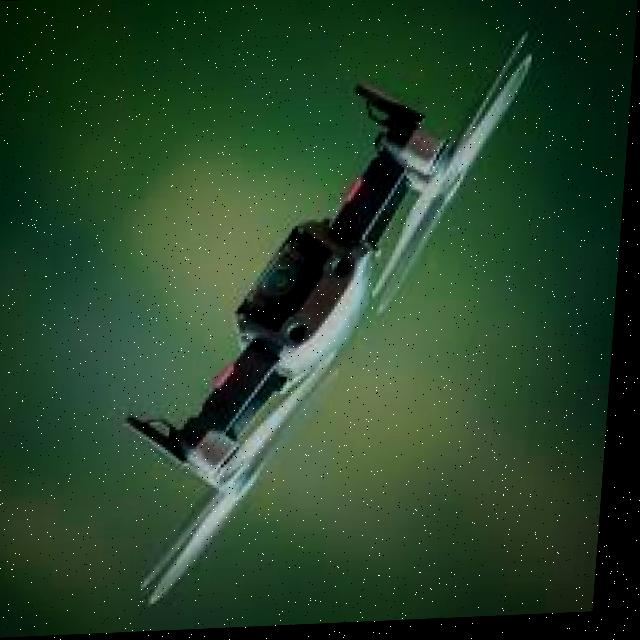drone: (98, 23, 549, 605)
